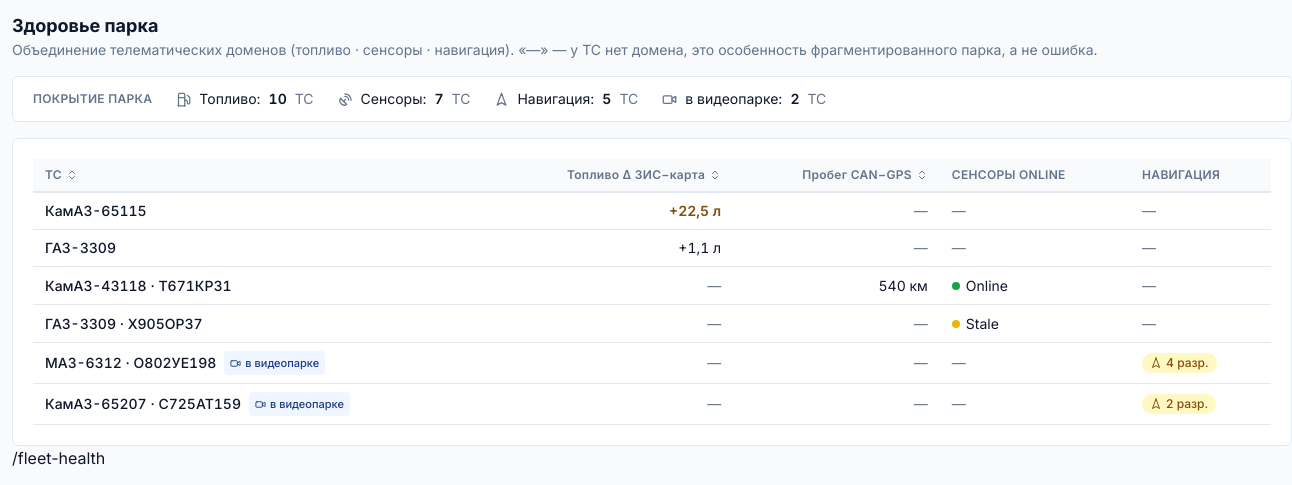
Test: FleetHealth · хаб «Здоровье парка» › клик по строке только с навигацией → /reb/:id (самый «богатый» доступный домен)
Expected: the text "Покрытие парка" is shown, [33,91,152,107]
Click the text "МАЗ-6312 · О802УЕ198": (131, 363) [45,353,216,373]
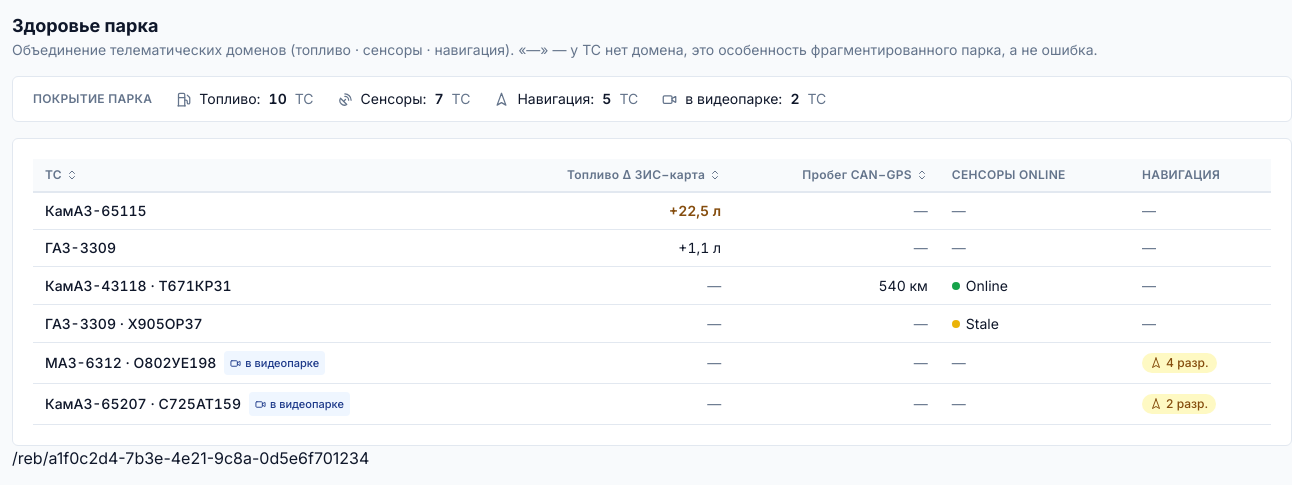
Now the text with test id "loc" shows "/reb/", box [12,448,369,468]
